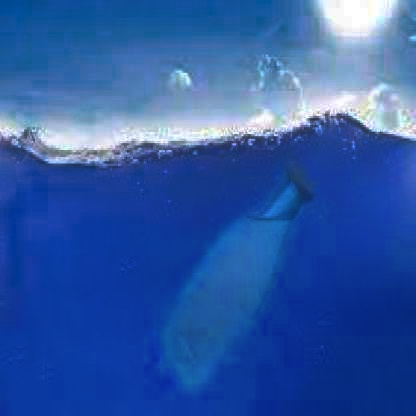gbottle: (145, 157, 324, 391)
